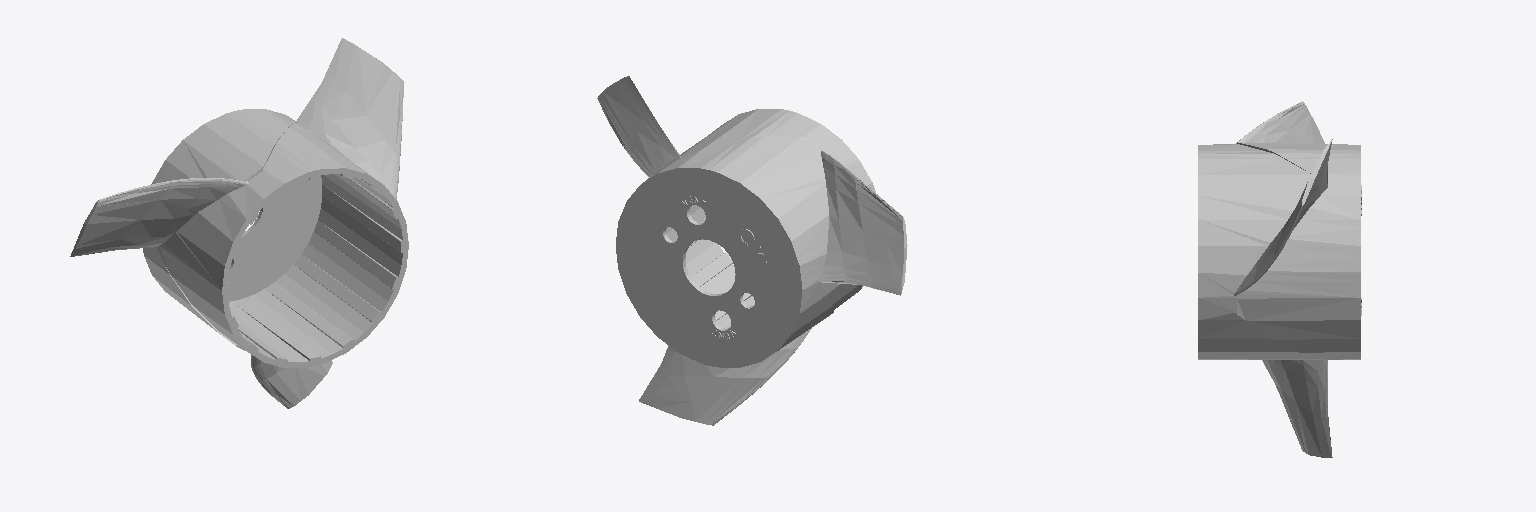
File: T200_02_T200STEP_T200STEPSTEP_T200STEP1_T200STEP1.obj
3 views of the same model, side by side, from view 1: azimuth 30°, elevation 25°; view 2: azimuth 150°, elevation 25°; view 3: azimuth 270°, elevation 25° (orthographic).
Size of the model in its own units: 0.0682 by 0.0702 by 0.0302.